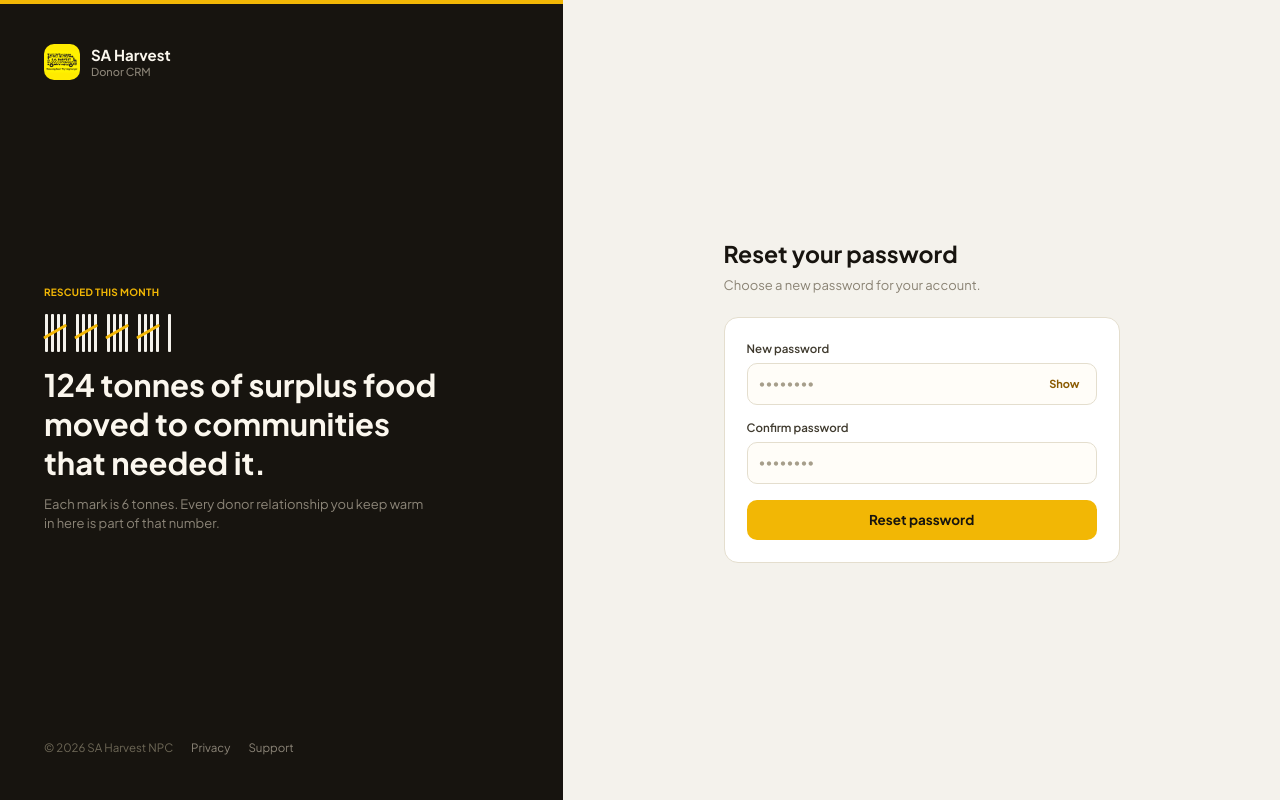
it: ResetPasswordPage › Failed reset with invalid/expired token → shows invalid-link message
The image size is (1280, 800).
In the 1st password field with placeholder "••••••••": {"x": 895, "y": 384} [748,364,1043,404], type "Str0ng!Pass"
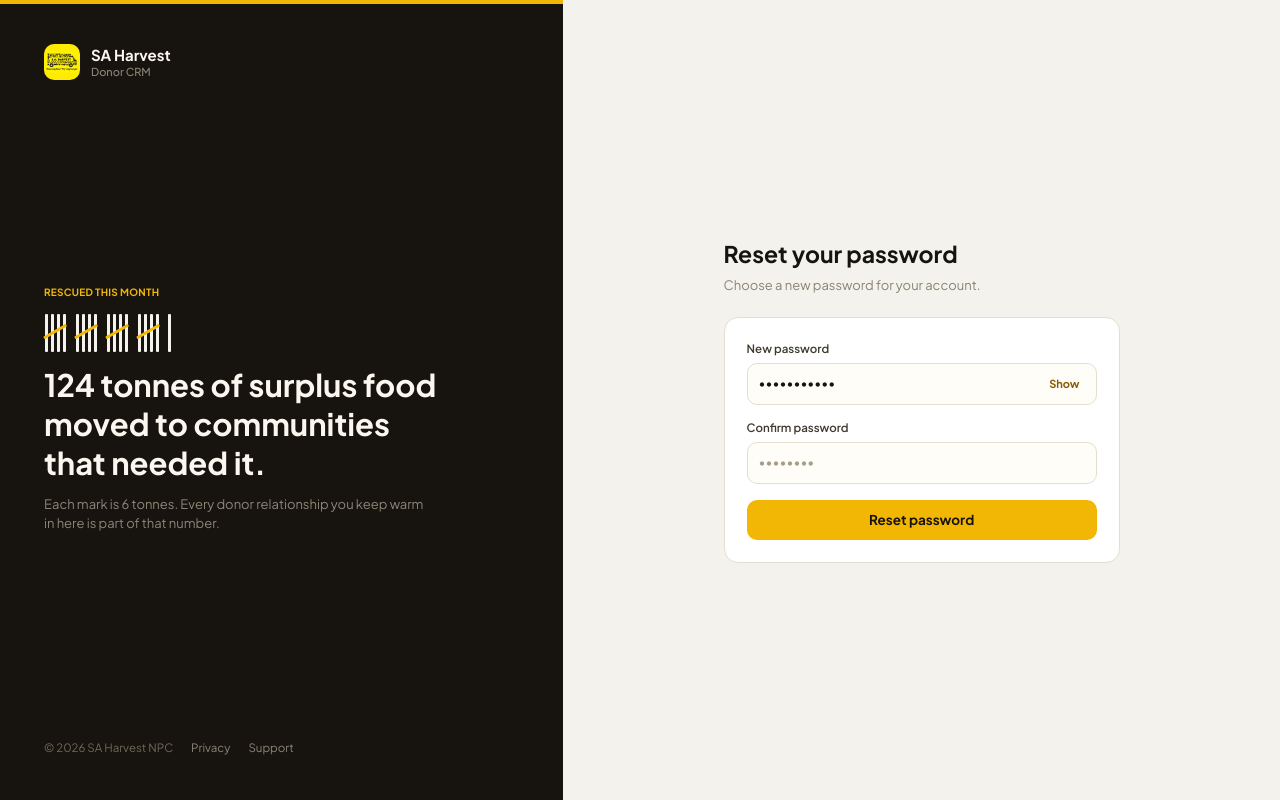
In the password field with placeholder "••••••••": {"x": 922, "y": 463} [747,442,1097,484], type "Str0ng!Pass"
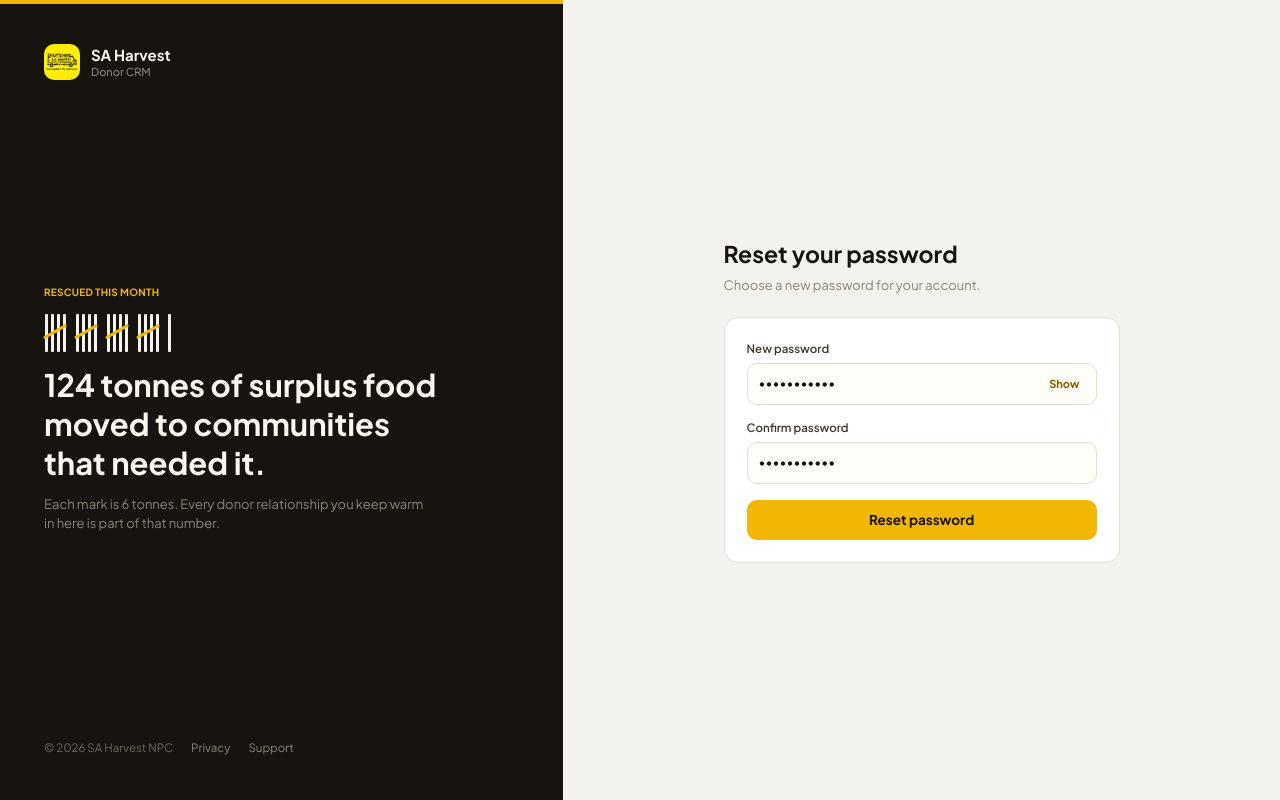
Click the button "Reset password": {"x": 922, "y": 520} [747,500,1097,540]
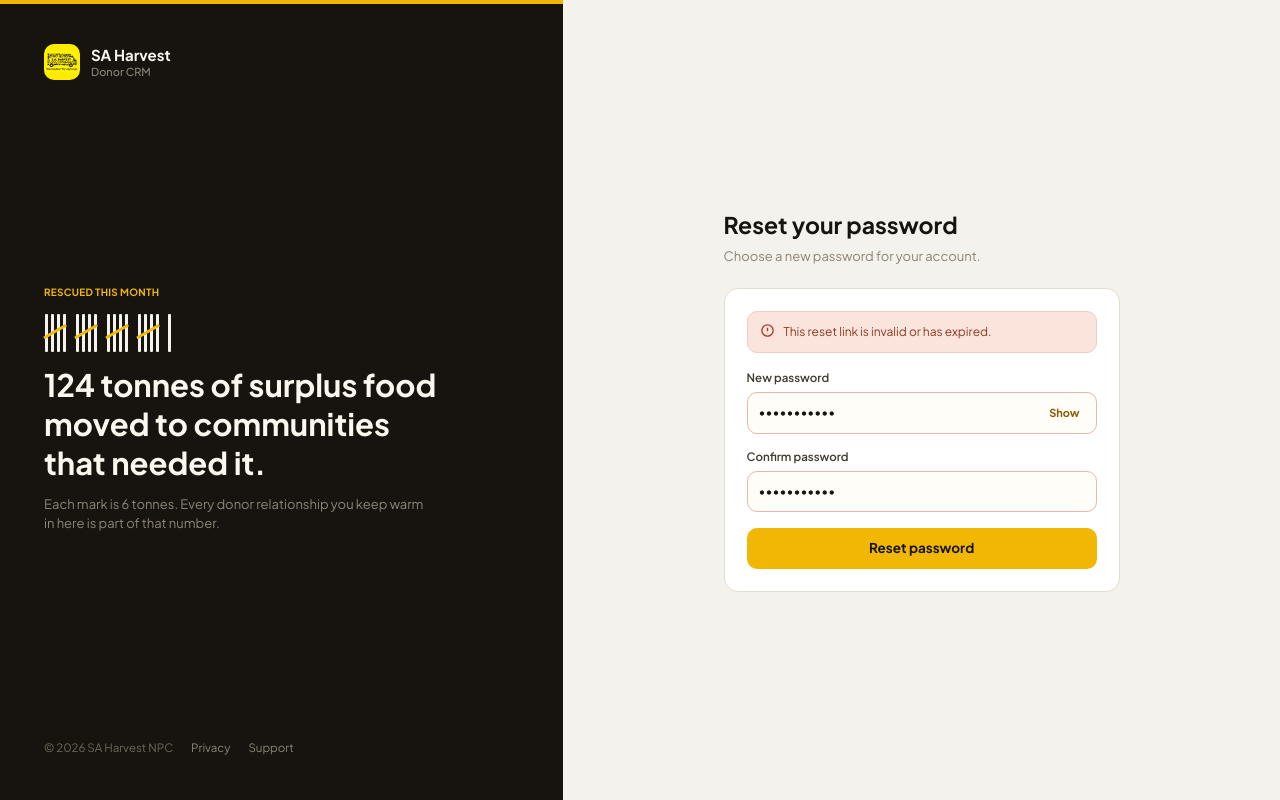
Check: the text "This reset link is invalid or has expired." is shown, box [784,322,992,342]
